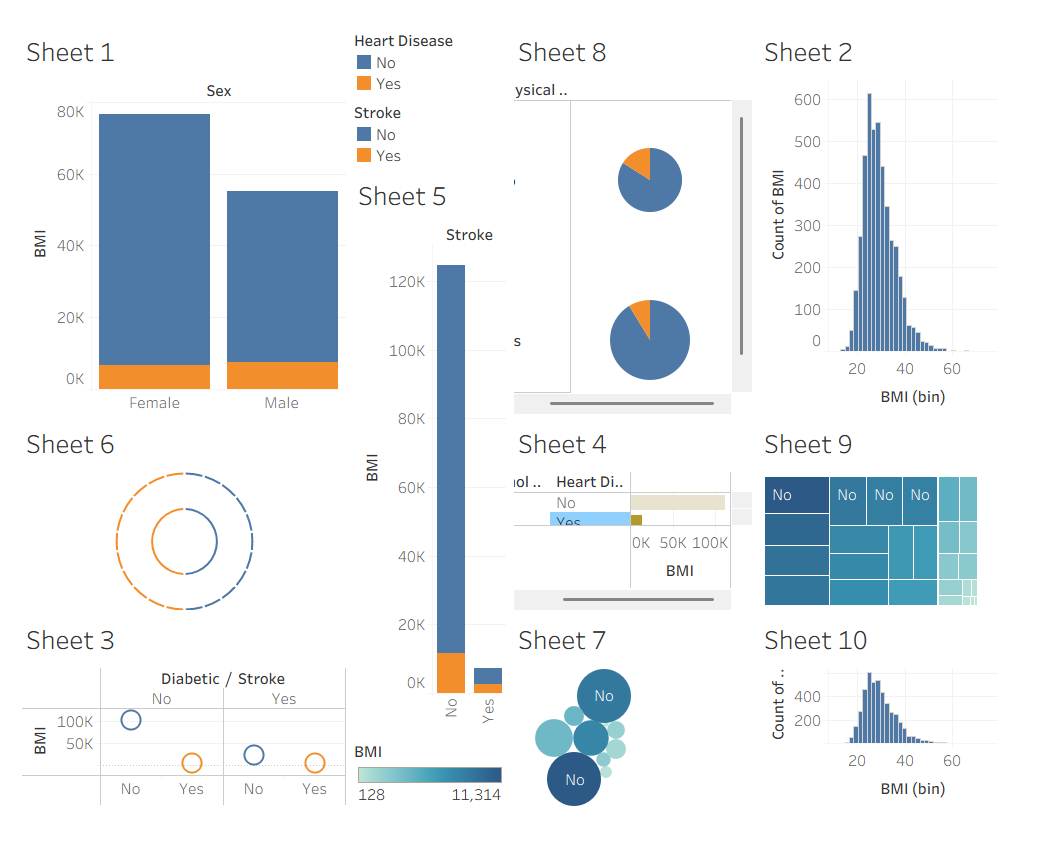

Layout of this report page (visuals, bound fields, positions):
{"tool":"tableau","page":{"name":"Dashboard 1","canvas":[1000,800],"ordinal":0},"visuals":[{"type":"worksheet","title":"Sheet 1","mark":"Automatic","rows":["BMI"],"cols":["Sex"],"box":[8,8,332,294]},{"type":"legend","title":"Sheet 1","param":"[federated.1ubbxgj08m4oeu1cy6sth19cky2x].[none:HeartDisease:nk]","box":[340,8,160,72]},{"type":"worksheet","title":"Sheet 8","mark":"Pie","rows":["PhysicalActivity"],"box":[500,8,246,392]},{"type":"worksheet","title":"Sheet 2","mark":"Automatic","rows":["BMI"],"cols":["BMI (bin)"],"box":[746,8,246,392]},{"type":"legend","title":"Sheet 3","param":"[federated.1ubbxgj08m4oeu1cy6sth19cky2x].[none:Stroke:nk]","box":[340,80,160,72]},{"type":"worksheet","title":"Sheet 5","mark":"Automatic","rows":["BMI"],"cols":["Stroke"],"box":[340,152,160,567]},{"type":"worksheet","title":"Sheet 6","box":[8,302,332,294]},{"type":"worksheet","title":"Sheet 4","mark":"Automatic","rows":["AlcoholDrinking","HeartDisease"],"cols":["BMI"],"box":[500,400,246,196]},{"type":"worksheet","title":"Sheet 9","mark":"Automatic","box":[746,400,246,196]},{"type":"worksheet","title":"Sheet 3","mark":"Shape","rows":["BMI"],"cols":["Diabetic","Stroke"],"box":[8,596,332,196]},{"type":"worksheet","title":"Sheet 7","mark":"Circle","box":[500,596,246,196]},{"type":"worksheet","title":"Sheet 10","mark":"Automatic","rows":["BMI"],"cols":["BMI (bin)"],"box":[746,596,246,196]},{"type":"legend","title":"Sheet 9","param":"[federated.1ubbxgj08m4oeu1cy6sth19cky2x].[sum:BMI:qk]","box":[340,719,160,73]}]}

Visuals, with their boxes in screenshot pixels (x1, y1, x2, y2), scaled from the page's 1000x800 canvas onto the 1045x852 screenshot:
"Sheet 1" worksheet: (8,9,355,322)
"Sheet 1" legend: (355,9,522,85)
"Sheet 8" worksheet (Pie marks): (522,9,780,426)
"Sheet 2" worksheet: (780,9,1037,426)
"Sheet 3" legend: (355,85,522,162)
"Sheet 5" worksheet: (355,162,522,766)
"Sheet 6" worksheet: (8,322,355,635)
"Sheet 4" worksheet: (522,426,780,635)
"Sheet 9" worksheet: (780,426,1037,635)
"Sheet 3" worksheet (Shape marks): (8,635,355,843)
"Sheet 7" worksheet (Circle marks): (522,635,780,843)
"Sheet 10" worksheet: (780,635,1037,843)
"Sheet 9" legend: (355,766,522,843)
